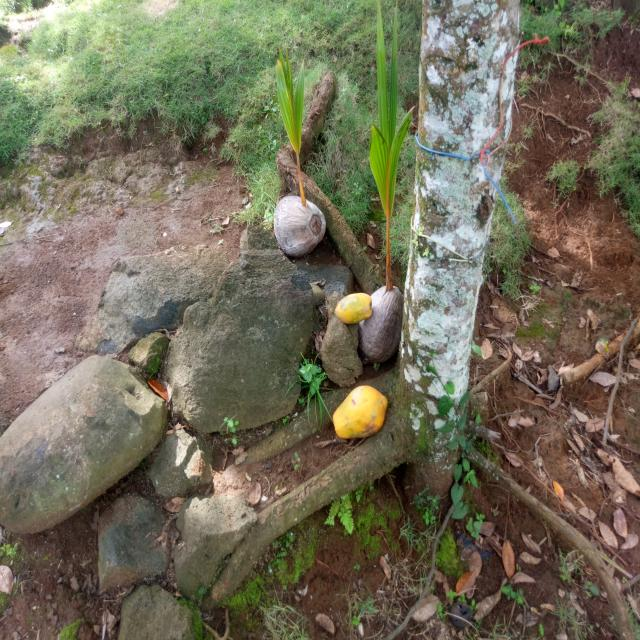Pepaya rippen: (328, 384, 389, 440), (332, 279, 378, 327)
